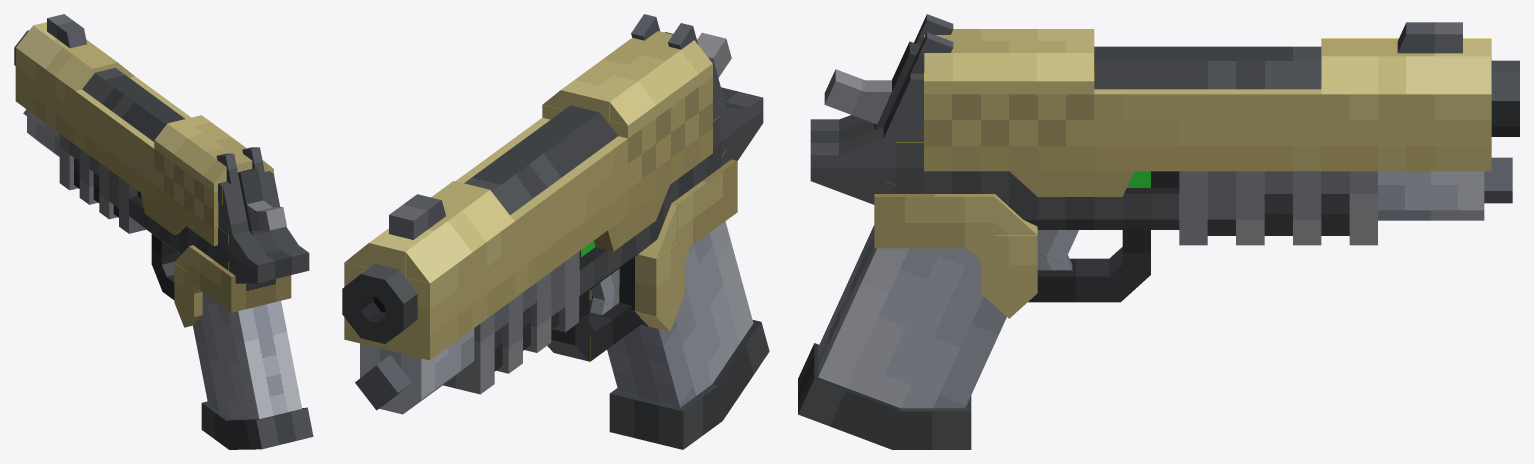
File: minecraft-pistol.gltf
3 renders of one model, left to right at view 1: azimuth 30°, elevation 25°; view 2: azimuth 150°, elevation 25°; view 3: azimuth 270°, elevation 25°, orthographic. The views are drawn at different scales.
Parts seen in each view (by area): view 1: _gltfNode_126, _gltfNode_93, _gltfNode_16, _gltfNode_19, _gltfNode_131, _gltfNode_48, _gltfNode_96, _gltfNode_117, _gltfNode_120, _gltfNode_30, _gltfNode_45, _gltfNode_99 (+21 smaller); view 2: _gltfNode_126, _gltfNode_93, _gltfNode_10, _gltfNode_131, _gltfNode_117, _gltfNode_96, _gltfNode_12, _gltfNode_16, _gltfNode_120, _gltfNode_188, _gltfNode_99, _gltfNode_75 (+32 smaller); view 3: _gltfNode_126, _gltfNode_93, _gltfNode_128, _gltfNode_102, _gltfNode_16, _gltfNode_75, _gltfNode_114, _gltfNode_19, _gltfNode_188, _gltfNode_87, _gltfNode_51, _gltfNode_117 (+31 smaller).
Part boxes in pixels (<box>): _gltfNode_126: <box>15,48,218,246</box>; _gltfNode_93: <box>193,292,302,419</box>; _gltfNode_16: <box>189,245,291,312</box>; _gltfNode_19: <box>223,407,313,449</box>; _gltfNode_131: <box>16,25,92,90</box>; _gltfNode_48: <box>228,243,309,282</box>; _gltfNode_96: <box>82,73,165,141</box>; _gltfNode_117: <box>167,115,252,172</box>; _gltfNode_120: <box>155,124,226,183</box>; _gltfNode_30: <box>218,174,280,264</box>; _gltfNode_45: <box>218,217,298,257</box>; _gltfNode_99: <box>95,68,184,124</box>; _gltfNode_126: <box>344,76,712,360</box>; _gltfNode_93: <box>607,221,753,407</box>; _gltfNode_10: <box>609,384,722,449</box>; _gltfNode_131: <box>405,190,514,283</box>; _gltfNode_117: <box>560,31,680,120</box>; _gltfNode_96: <box>492,112,617,214</box>; _gltfNode_12: <box>589,243,684,316</box>; _gltfNode_16: <box>672,159,737,255</box>; _gltfNode_120: <box>610,40,712,125</box>; _gltfNode_188: <box>360,328,474,399</box>; _gltfNode_99: <box>464,105,599,191</box>; _gltfNode_75: <box>551,204,670,316</box>; _gltfNode_126: <box>924,82,1491,171</box>; _gltfNode_93: <box>818,225,1006,408</box>; _gltfNode_128: <box>1321,56,1491,94</box>; _gltfNode_102: <box>1094,61,1321,89</box>; _gltfNode_16: <box>874,194,994,248</box>; _gltfNode_75: <box>995,188,1236,219</box>; _gltfNode_114: <box>924,53,1093,81</box>; _gltfNode_19: <box>798,343,900,449</box>; _gltfNode_188: <box>1378,171,1484,210</box>; _gltfNode_87: <box>1179,171,1349,193</box>; _gltfNode_51: <box>895,142,1033,193</box>; _gltfNode_117: <box>924,29,1094,52</box>.
Bounding box in the file's own units: 3.5 × 15.79 × 25.44.
